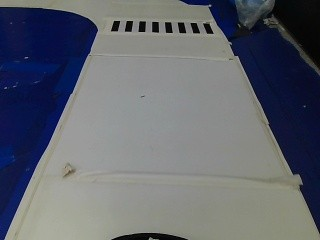crosswalk: (103, 15, 218, 36)
